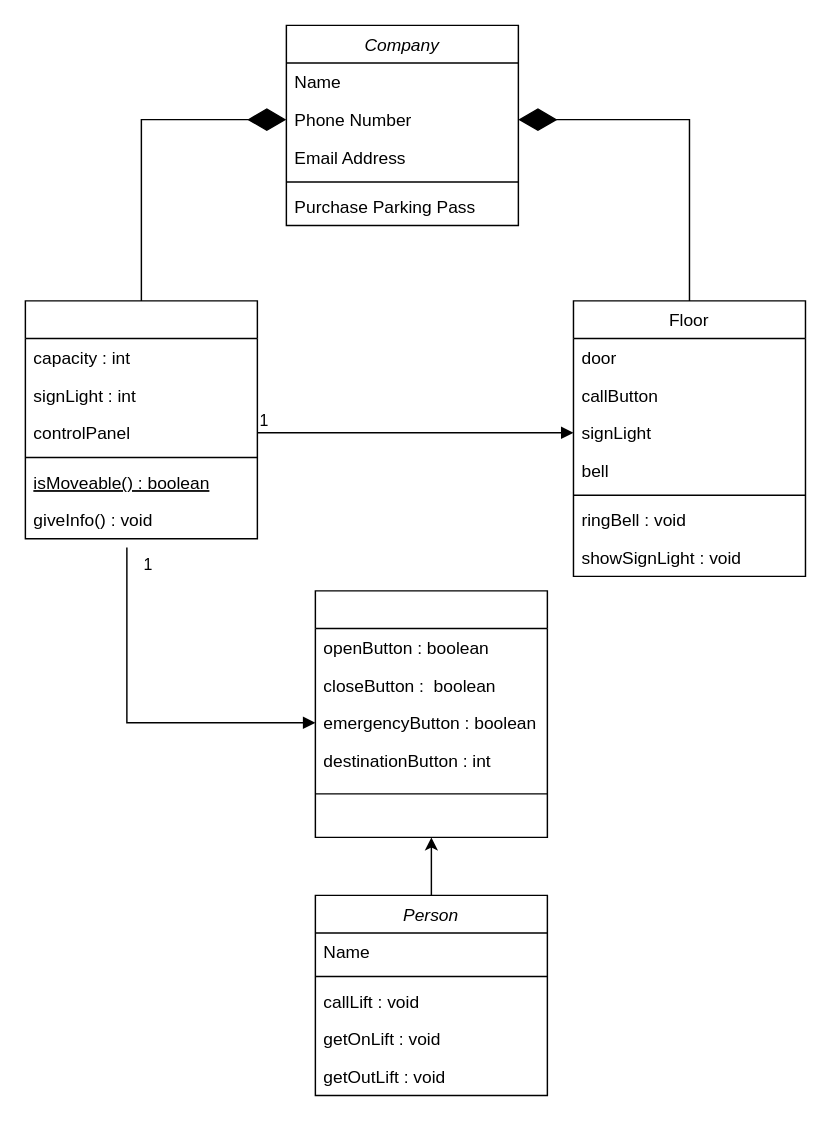
Image size: 831x1125. Some labels were removed from this diagram. Each missing label, with the box of its shape:
Control Panel: (314, 589, 547, 837)
Elevator: (24, 299, 257, 539)
